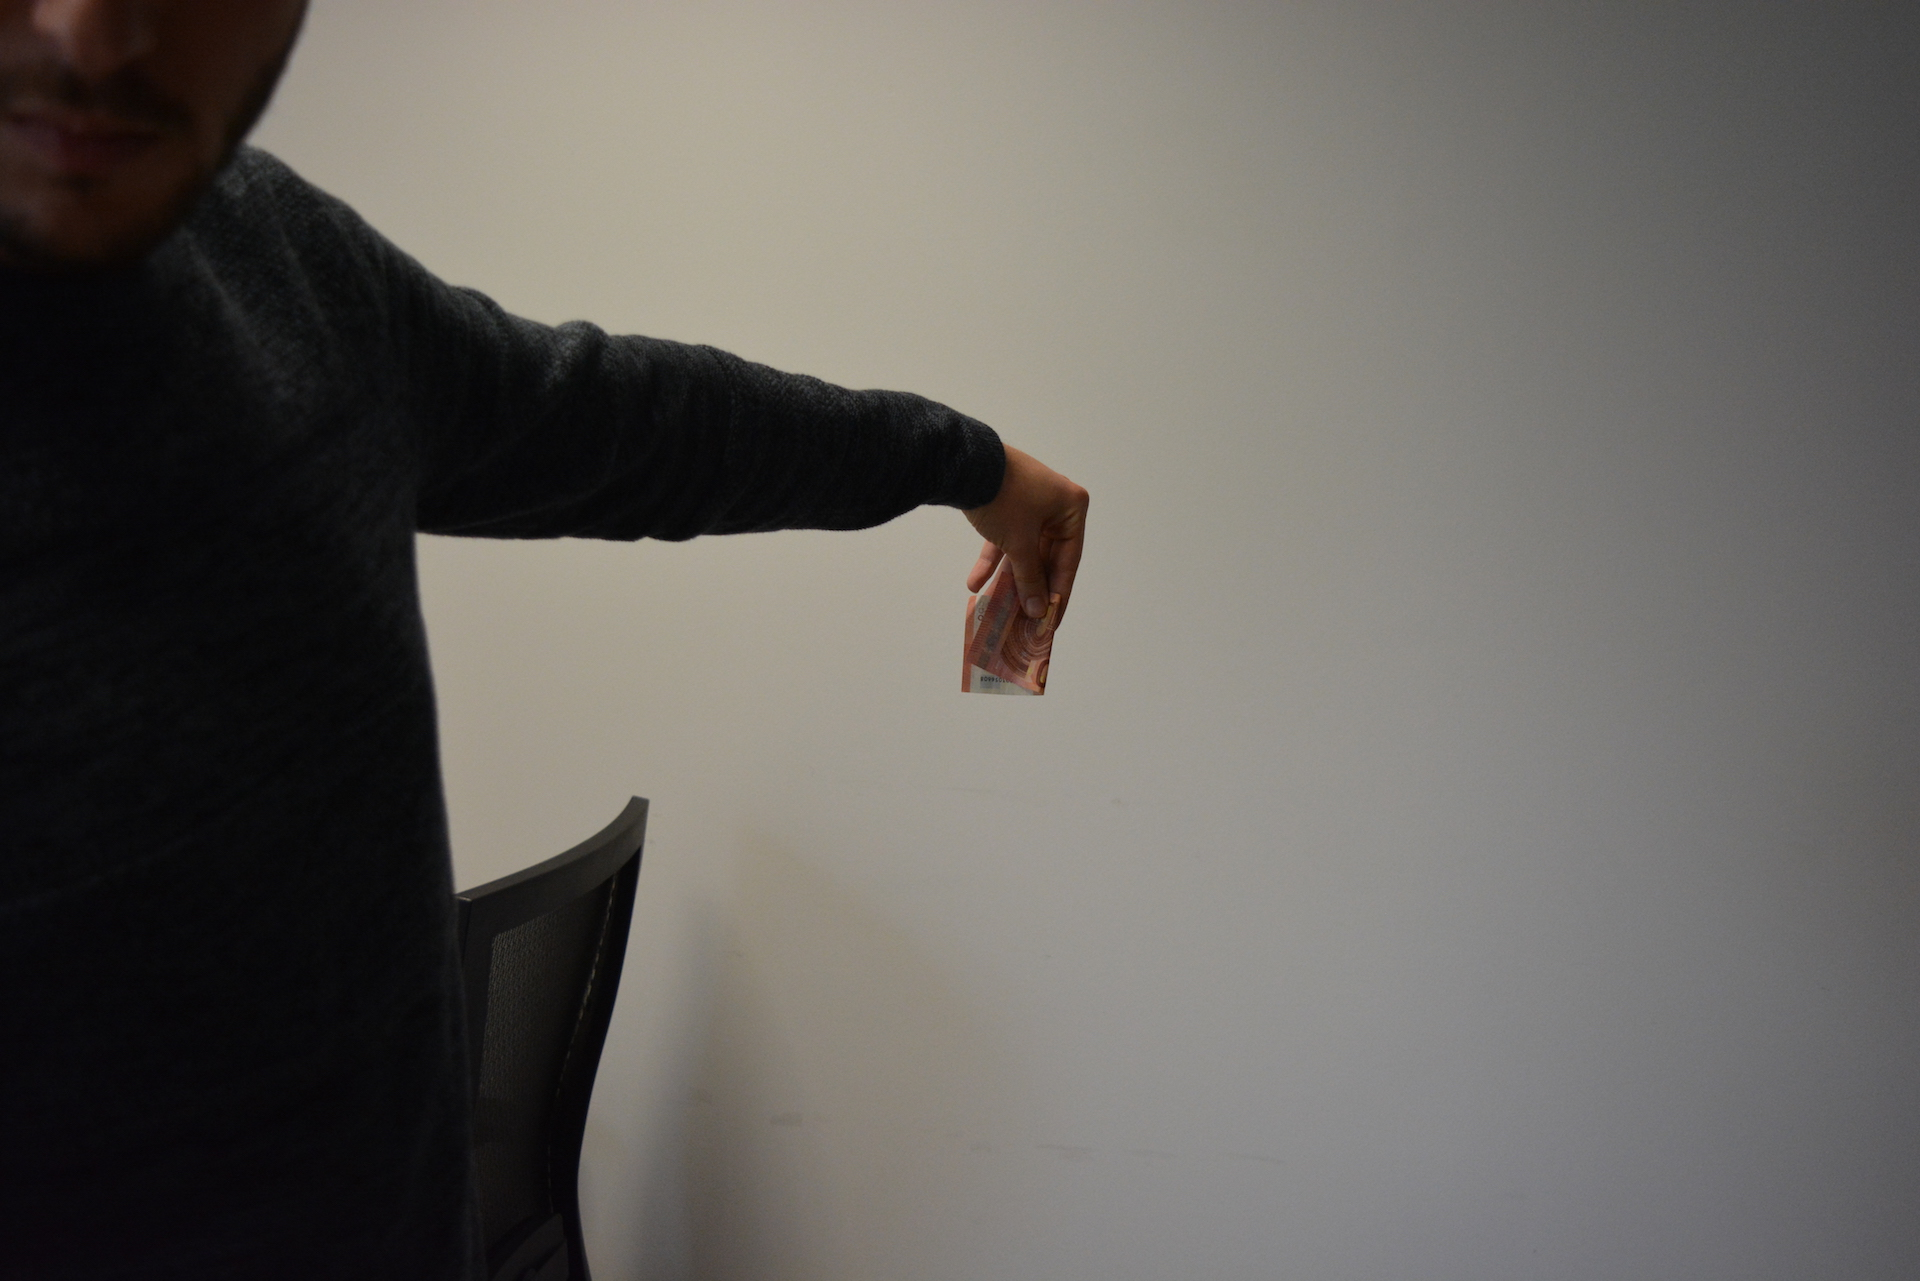billete: (961, 570, 1064, 696)
